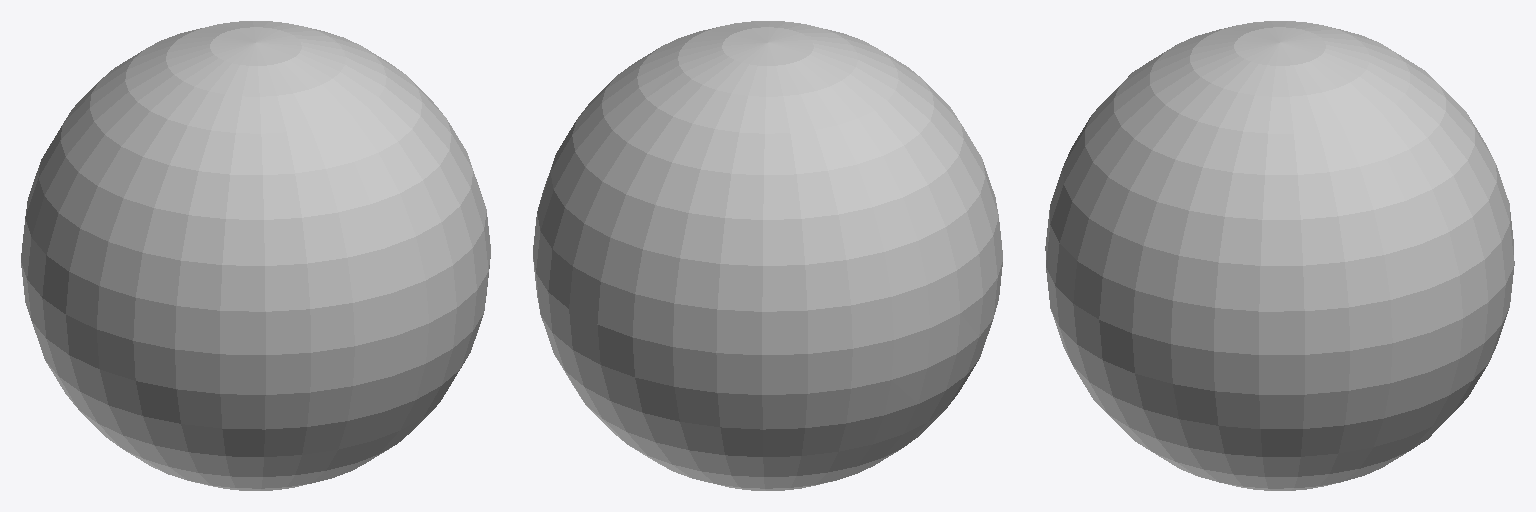
The model's file is moon.obj.
The picture shows the model from 3 angles: view 1: azimuth 30°, elevation 25°; view 2: azimuth 150°, elevation 25°; view 3: azimuth 270°, elevation 25°; orthographic projection.
Visible parts, largest first — view 1: moon_Sphere.009; view 2: moon_Sphere.009; view 3: moon_Sphere.009.
Boxes of the visible parts, <box> form: moon_Sphere.009: <box>21,21,490,490</box>; moon_Sphere.009: <box>533,21,1002,490</box>; moon_Sphere.009: <box>1045,21,1514,490</box>.
Size of the model in its own units: 0.239 by 0.24 by 0.239.